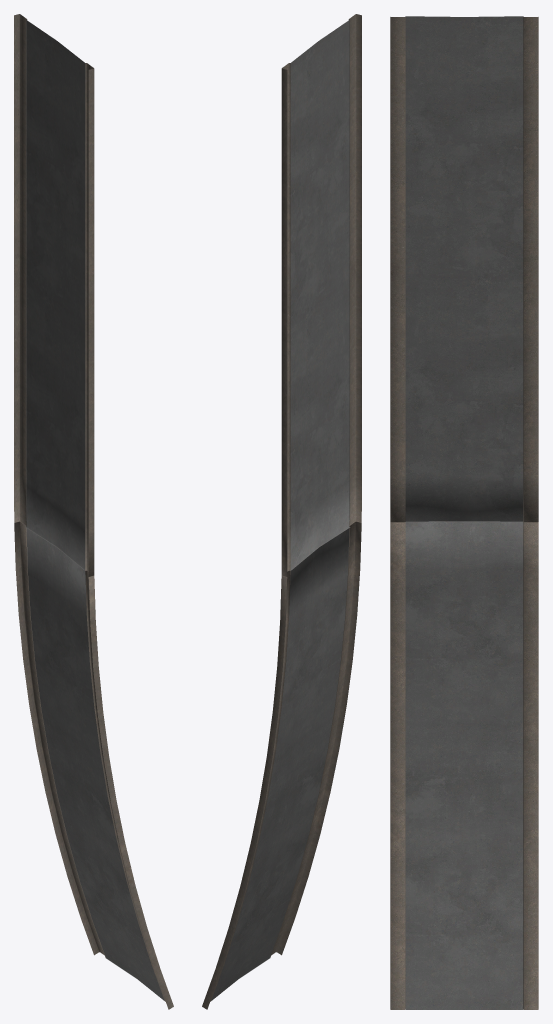
File: cP_Pathway01_v02_StraightCurveUp.dae
3 views of the same model, side by side, from view 1: azimuth 30°, elevation 25°; view 2: azimuth 150°, elevation 25°; view 3: azimuth 270°, elevation 25° (orthographic).
Parts seen in each view (by area): view 1: cP_Pathway01_v02_StraightCurveUp.001; view 2: cP_Pathway01_v02_StraightCurveUp.001; view 3: cP_Pathway01_v02_StraightCurveUp.001.
Part boxes in pixels (x1,y1,x2,y2): cP_Pathway01_v02_StraightCurveUp.001: (14,14,173,1009); cP_Pathway01_v02_StraightCurveUp.001: (202,14,361,1009); cP_Pathway01_v02_StraightCurveUp.001: (390,16,538,1009).
Bounding box in the file's own units: 1.3 × 1.95 × 13.87.
